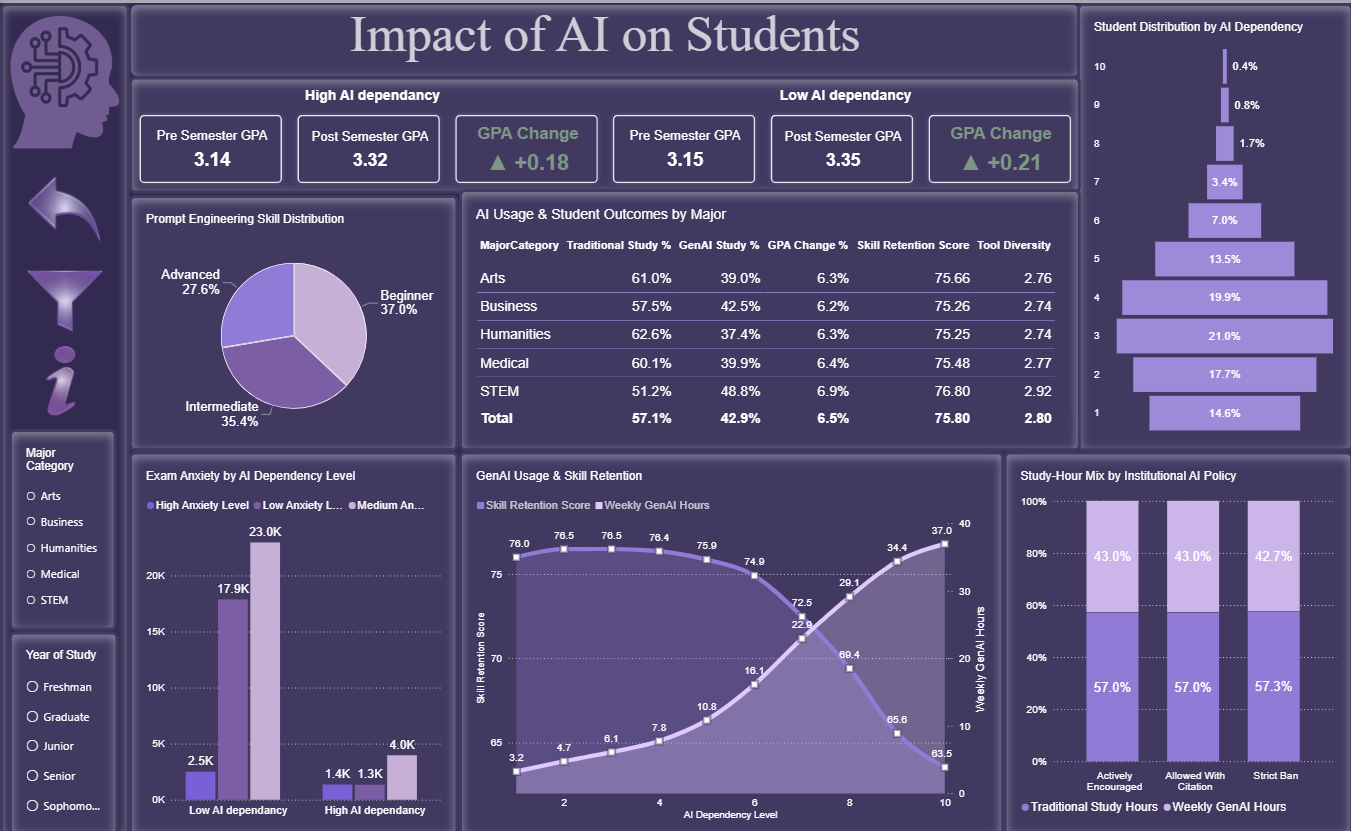

The page's visual inventory and layout, read from the dashboard file:
{"tool":"powerbi","page":{"name":"Impact of AI on Students","canvas":[1920,1180],"ordinal":0},"visuals":[{"type":"textbox","box":[184.4,2.8,1345.8,101.8],"z":0},{"type":"funnel","title":"Student Distribution by AI Dependency","fields":{"Category":["Impact of AI on Students.Perceived_AI_Dependency"],"Y":["CountNonNull(Impact of AI on Students.Student_ID)"]},"box":[1528.6,0,392.1,635.8],"z":1000},{"type":"hundredPercentStackedColumnChart","title":"Study-Hour Mix by Institutional AI Policy","fields":{"Category":["Impact of AI on Students.Institutional_Policy"],"Y":["Avg(Impact of AI on Students.Traditional_Study_Hours)","Avg(Impact of AI on Students.Weekly_GenAI_Hours)"]},"box":[1424.4,635.8,496.2,545],"z":2000},{"type":"cardVisual","title":"GPA Change","fields":{"Data":["Avg(Impact of AI on Students.Pre_Semester_GPA)","Avg(Impact of AI on Students.Post_Semester_GPA)","#DAX.GPA Change Display"],"Rows":["Impact of AI on Students.Perceived_AI_Dependency (groups)"]},"box":[183.9,104.1,1350,166.1],"z":3000},{"type":"clusteredColumnChart","title":"Exam Anxiety by AI Dependency Level","fields":{"Category":["Impact of AI on Students.Perceived_AI_Dependency (groups)"],"Series":["Impact of AI on Students.Anxiety_Level_During_Exams (groups)"],"Y":["Count(Impact of AI on Students.Student_ID)"]},"box":[183.9,635.8,467.4,545],"z":4000},{"type":"areaChart","title":"GenAI Usage & Skill Retention","fields":{"Category":["Impact of AI on Students.Perceived_AI_Dependency"],"Y":["Avg(Impact of AI on Students.Skill_Retention_Score)"],"Y2":["Avg(Impact of AI on Students.Weekly_GenAI_Hours)"]},"box":[651.3,635.8,773.1,547.2],"z":5000},{"type":"textbox","box":[0,0,183.9,1180.8],"z":6000},{"type":"actionButton","box":[26.6,363.3,132.9,117.4],"z":7000},{"type":"listSlicer","fields":{"Values":["Impact of AI on Students.Year_of_Study"]},"box":[13.3,890.6,155.1,290.2],"z":8000},{"type":"actionButton","box":[22.2,480.7,130.7,108.6],"z":9000},{"type":"image","box":[0,17.7,183.9,190.5],"z":11000},{"type":"pieChart","title":"Prompt Engineering Skill Distribution","fields":{"Category":["Impact of AI on Students.Prompt_Engineering_Skill"],"Y":["Count(Impact of AI on Students.Student_ID)"]},"box":[183.9,272.5,467.4,363.3],"z":12000},{"type":"listSlicer","fields":{"Values":["Impact of AI on Students.Major_Category"]},"box":[13.3,604.8,152.9,285.8],"z":13000},{"type":"tableEx","title":"AI Usage & Student Outcomes by Major","fields":{"Values":["Impact of AI on Students.Major_Category","#DAX.Traditional Study %","#DAX.GenAI Study %","#DAX.GPA Change %","Avg(Impact of AI on Students.Skill_Retention_Score)","Avg(Impact of AI on Students.Tool_Diversity)"]},"box":[651.3,263.6,881.7,372.2],"z":14000},{"type":"actionButton","box":[33.1,231.5,115.8,115.8],"z":15000}]}

Visuals, with their boxes in screenshot pixels (x1, y1, x2, y2), scaled from the page's 1920x1180 canvas onto the 1351x831 screenshot:
textbox: <bbox>130, 2, 1077, 74</bbox>
"Student Distribution by AI Dependency" funnel: <bbox>1076, 0, 1350, 448</bbox>
"Study-Hour Mix by Institutional AI Policy" hundredPercentStackedColumnChart: <bbox>1002, 448, 1350, 830</bbox>
"GPA Change" cardVisual: <bbox>129, 73, 1079, 190</bbox>
"Exam Anxiety by AI Dependency Level" clusteredColumnChart: <bbox>129, 448, 458, 830</bbox>
"GenAI Usage & Skill Retention" areaChart: <bbox>458, 448, 1002, 830</bbox>
textbox: <bbox>0, 0, 129, 830</bbox>
actionButton: <bbox>19, 256, 112, 339</bbox>
listSlicer - Impact of AI on Students.Year_of_Study: <bbox>9, 627, 118, 830</bbox>
actionButton: <bbox>16, 339, 108, 415</bbox>
image: <bbox>0, 12, 129, 147</bbox>
"Prompt Engineering Skill Distribution" pieChart: <bbox>129, 192, 458, 448</bbox>
listSlicer - Impact of AI on Students.Major_Category: <bbox>9, 426, 117, 627</bbox>
"AI Usage & Student Outcomes by Major" tableEx: <bbox>458, 186, 1079, 448</bbox>
actionButton: <bbox>23, 163, 105, 245</bbox>
